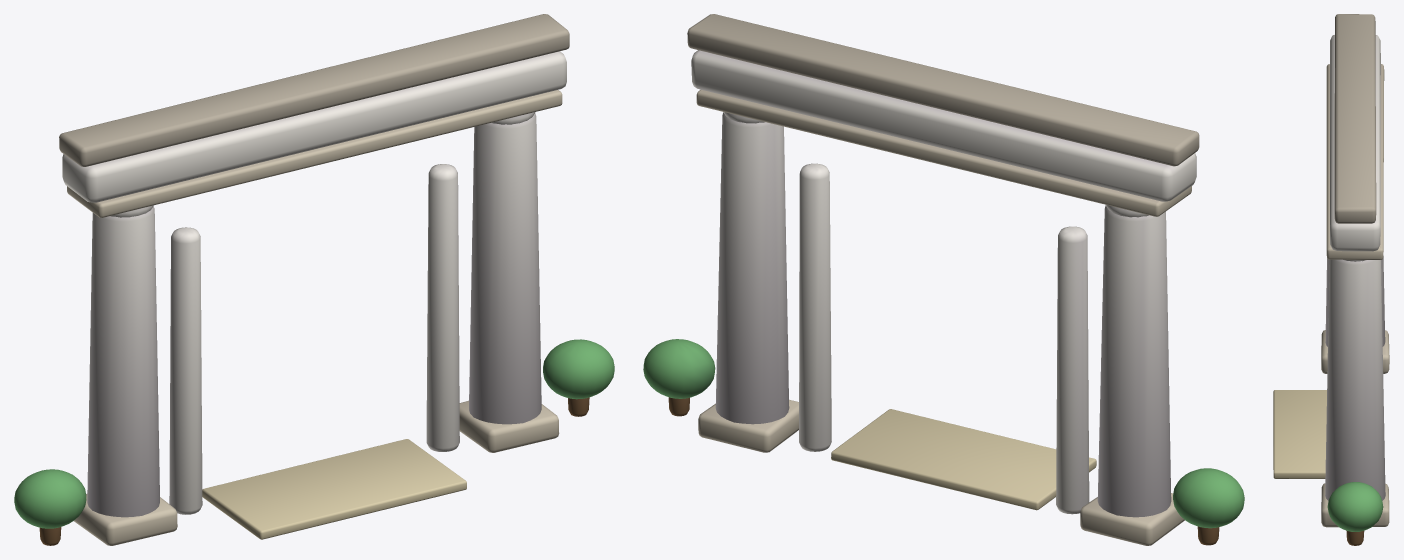
3 views of the same model, side by side, from view 1: azimuth 30°, elevation 25°; view 2: azimuth 150°, elevation 25°; view 3: azimuth 270°, elevation 25° (orthographic). The views are drawn at different scales.
Parts seen in each view (by area): view 1: gate_6ee7d124; view 2: gate_6ee7d124; view 3: gate_6ee7d124.
Part boxes in pixels (<box>): gate_6ee7d124: <box>14,14,614,545</box>; gate_6ee7d124: <box>643,14,1244,545</box>; gate_6ee7d124: <box>1273,14,1389,545</box>.
Size of the model in its own units: 6.87 by 4.42 by 1.42.
